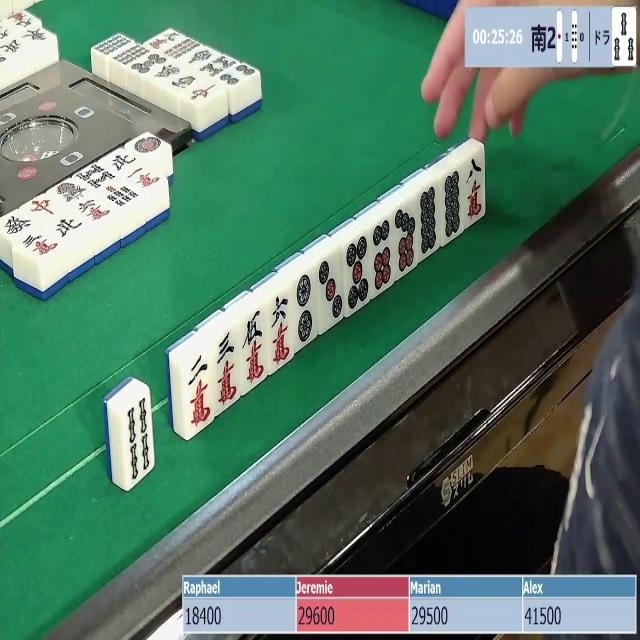m2: (184, 347, 212, 425)
m3: (212, 328, 244, 409)
m5: (238, 310, 272, 390)
m6: (265, 292, 295, 369)
m8: (459, 152, 485, 226)
s3: (613, 9, 636, 66)
s4: (122, 392, 154, 490)
s6: (92, 32, 134, 59)
s7: (100, 182, 144, 212)
s8: (72, 162, 120, 193)
t2: (294, 270, 320, 348)
t3: (313, 255, 344, 329)
t5: (343, 235, 371, 314)
t6: (365, 217, 397, 296)
t7: (388, 203, 418, 279)
t8: (440, 169, 466, 242), (416, 186, 440, 260)
